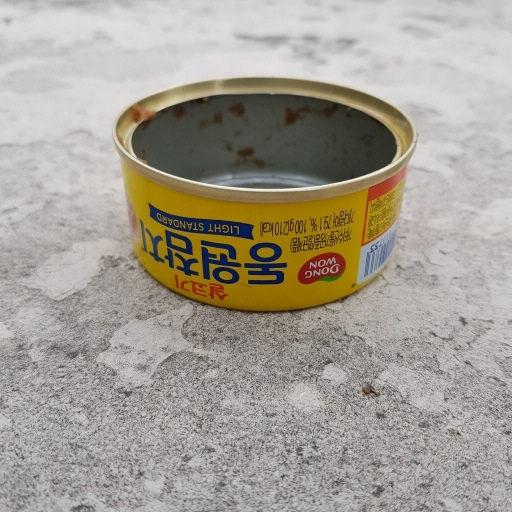Metal_1: (109, 72, 421, 314)
